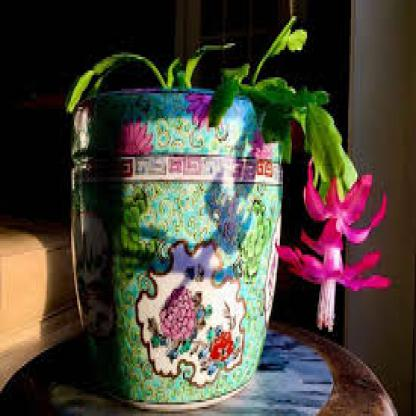Aglonema: (25, 39, 393, 301), (8, 246, 196, 391)
